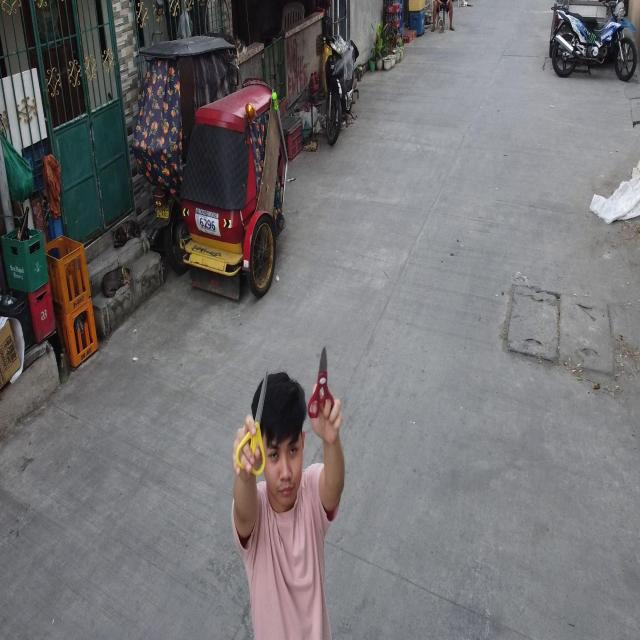scissor: (236, 370, 269, 474), (308, 344, 335, 420)
